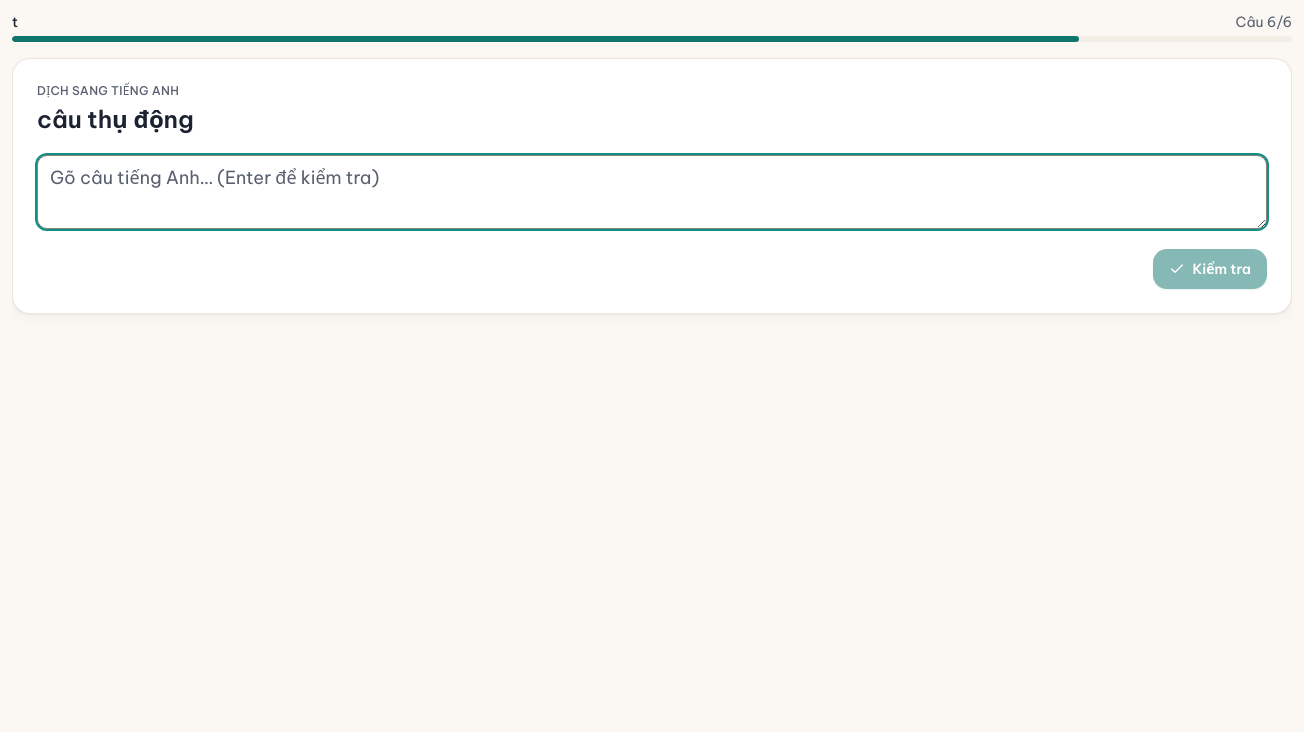
WriteRunner — redo only the wrong sentences › below 50 % asks to redo only the active sentences wrong the first time; a passive one only has to end right
This screenshot has width=1304, height=732.
Earlier steps of the test are not shown.
Later steps or results of the test are not shown.
In the text box named "Câu của bạn": (652, 192) [37,155,1267,229], type "nope"
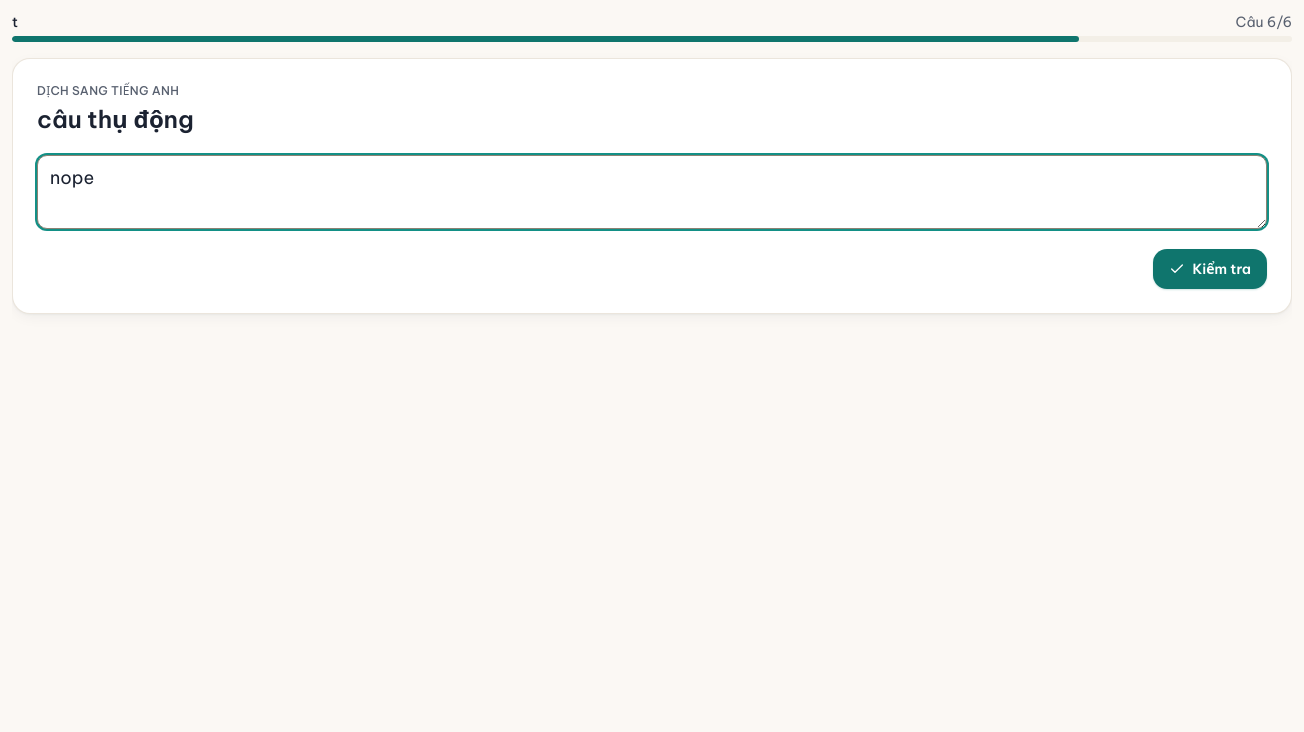
Click the button "Kiểm tra": (1210, 269) [1152,249,1267,289]
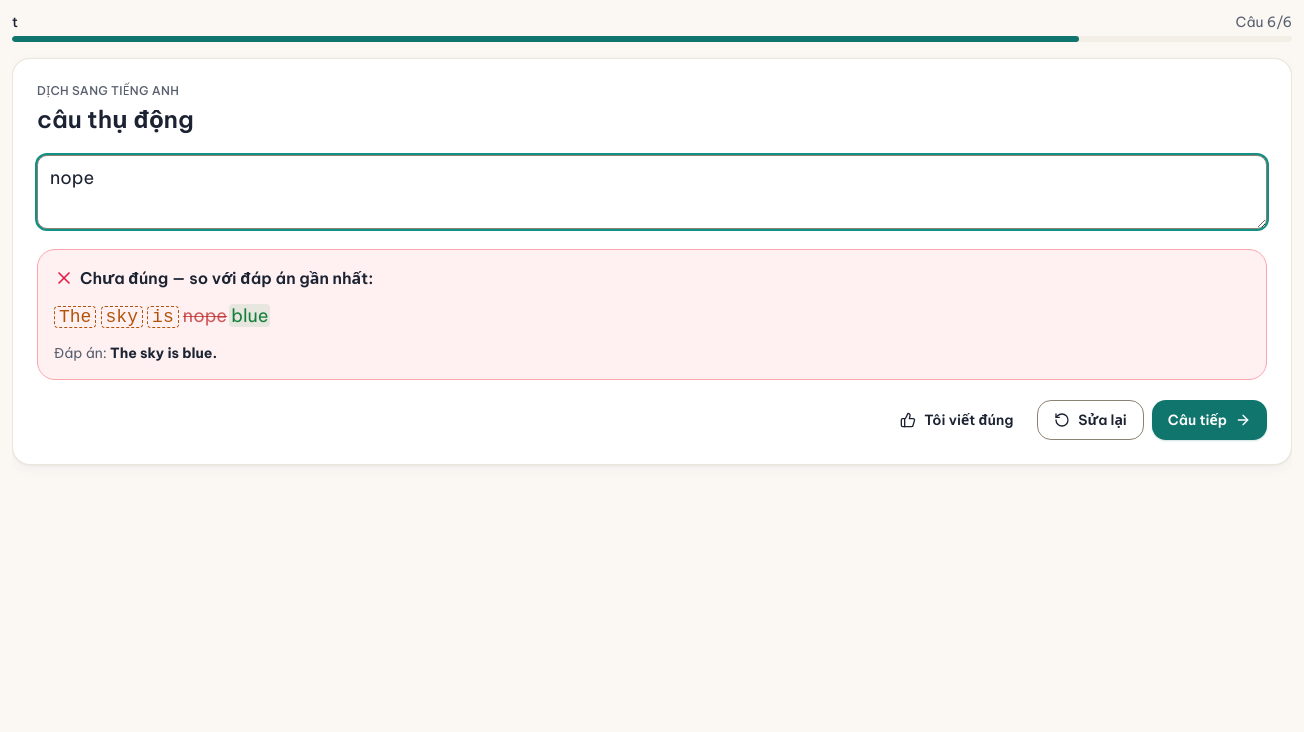
Click the button "Sửa lại": (1091, 420) [1037,400,1144,440]
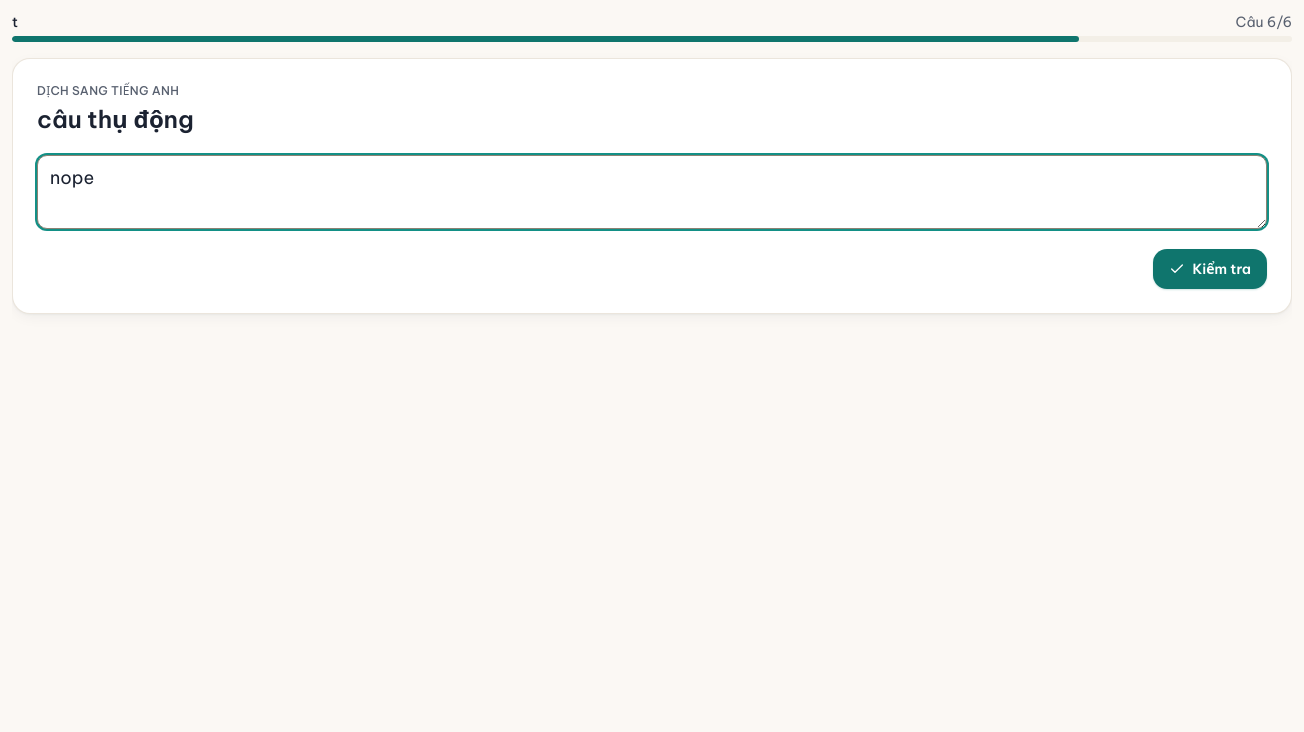
Replace the text in the text box named "Câu của bạn" with "The sky is blue.": (652, 192) [37,155,1267,229]
Click the button "Kiểm tra": (1210, 269) [1152,249,1267,289]
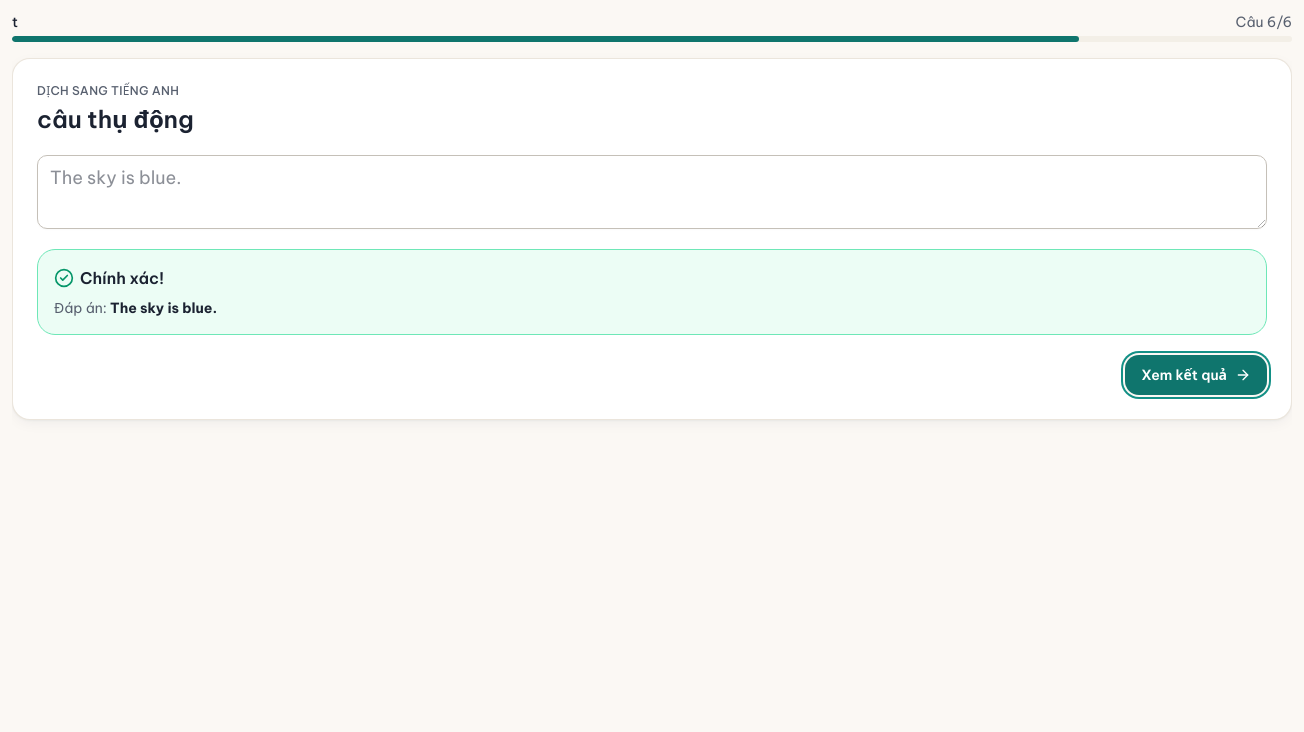
Click the button "Xem kết quả": (1196, 375) [1125,355,1267,395]
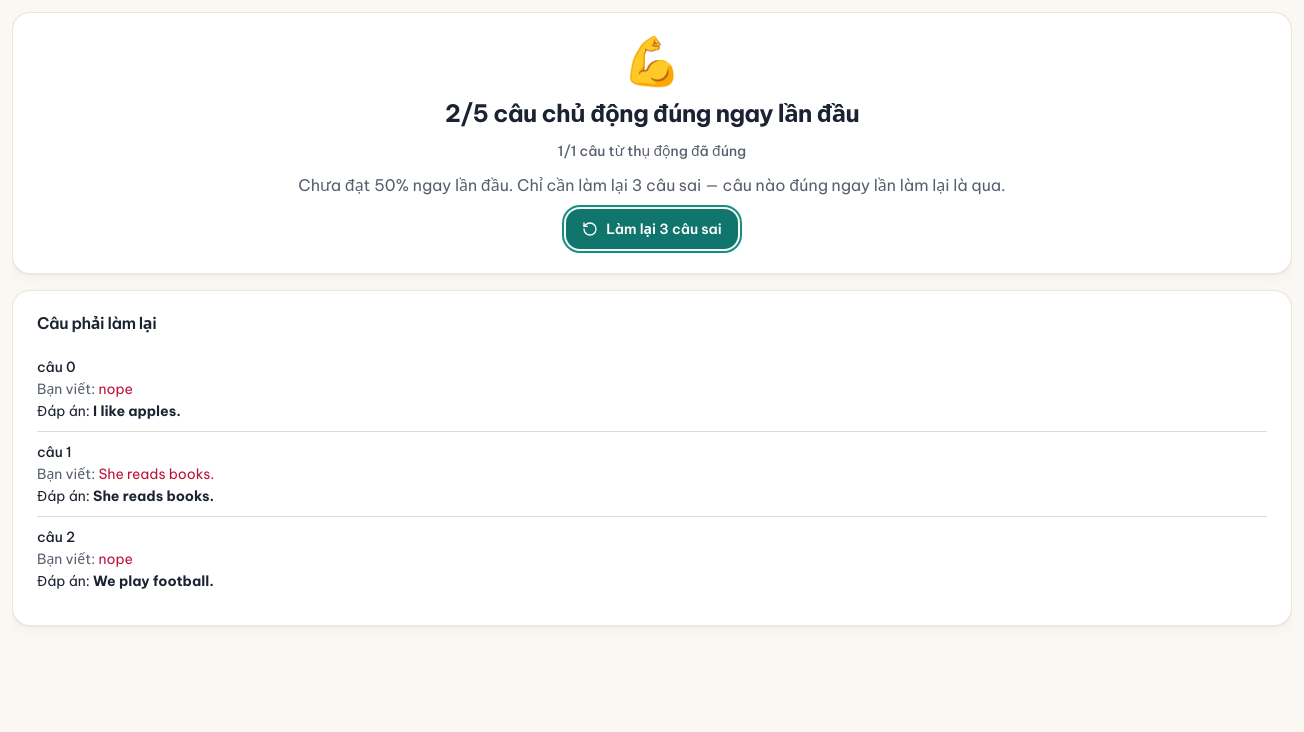
Check: the button "Làm lại 3 câu sai" is shown
Click the button "Làm lại 3 câu sai": (652, 229) [566,209,738,249]
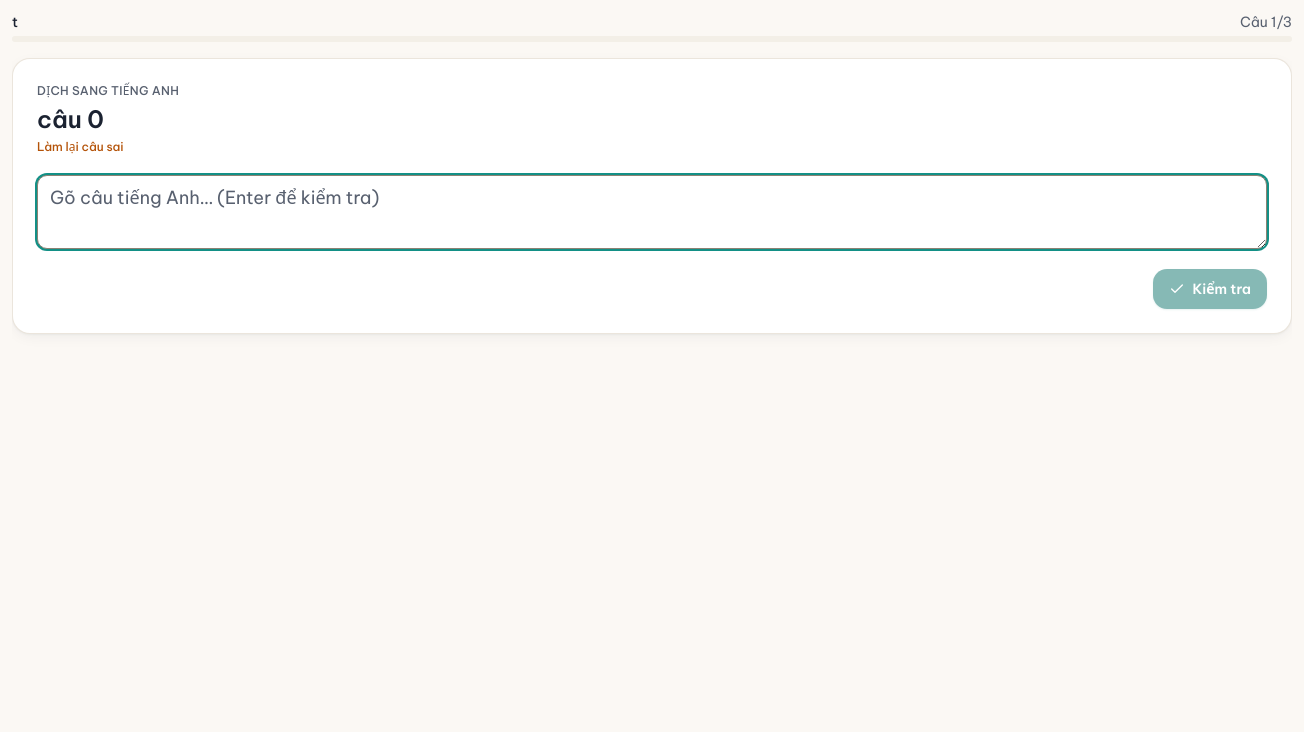
Check: the text with test id "prompt" reads "câu 0", box [37,104,104,134]
